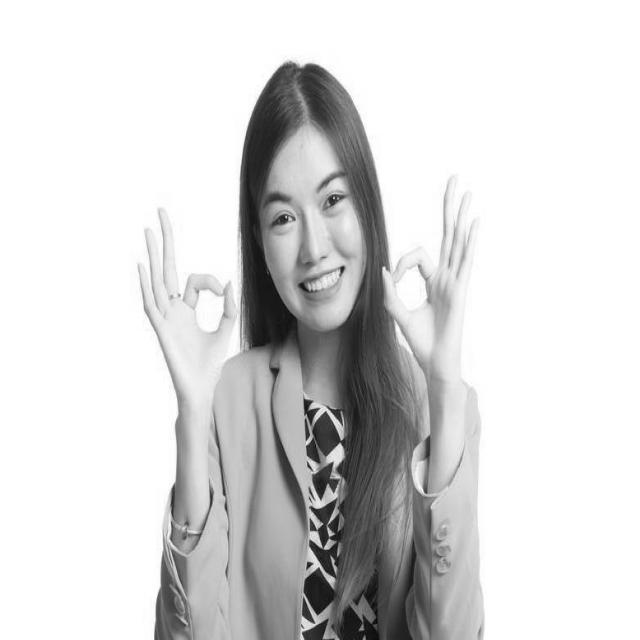perfect: (131, 196, 240, 419), (379, 166, 482, 389)
